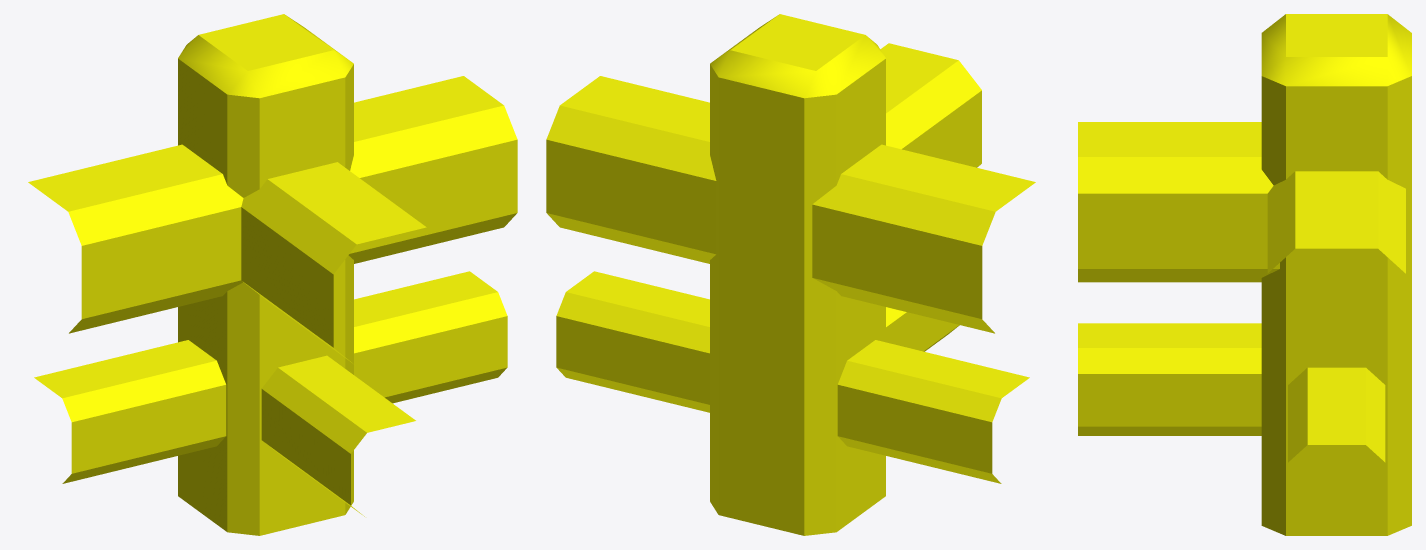
The model's file is Fence_T.glb.
3 renders of one model, left to right at view 1: azimuth 30°, elevation 25°; view 2: azimuth 150°, elevation 25°; view 3: azimuth 270°, elevation 25°, orthographic. The views are drawn at different scales.
Parts seen in each view (by area): view 1: Fence_T; view 2: Fence_T; view 3: Fence_T.
Boxes of the visible parts, box(x1,y1,x2,y2) form: Fence_T: box(28, 14, 517, 535); Fence_T: box(546, 14, 1035, 535); Fence_T: box(1078, 14, 1411, 535).
Size of the model in its own units: 2 by 2 by 1.29.
1 material, 1 textured.
